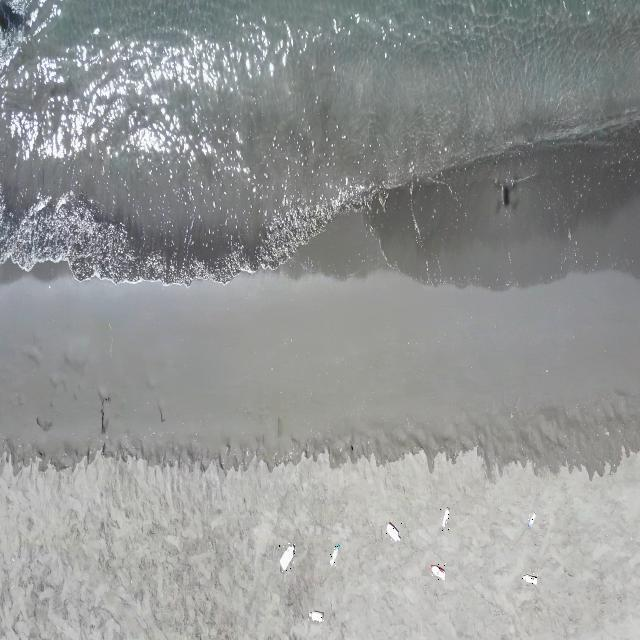plastic-bottle: (279, 543, 296, 572), (386, 522, 402, 542), (430, 563, 447, 581), (440, 507, 450, 532), (308, 608, 324, 622), (522, 573, 538, 586), (330, 544, 339, 567), (528, 513, 536, 530)
